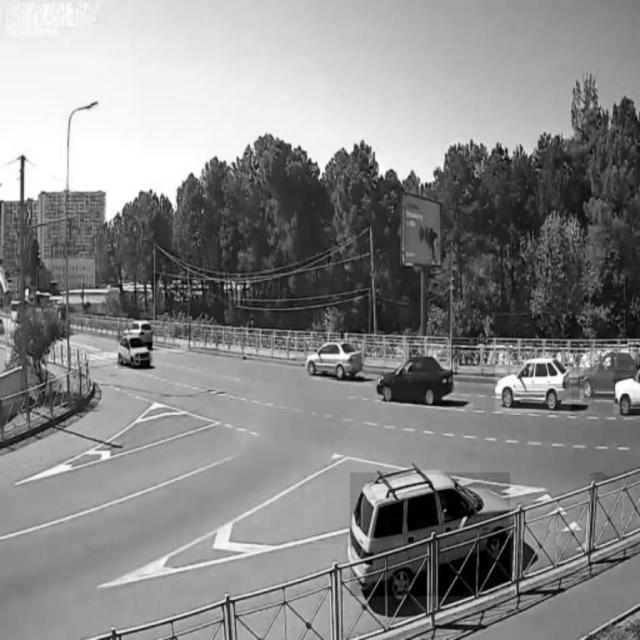vehicle: (350, 472, 510, 596), (375, 351, 457, 407), (496, 355, 572, 413), (580, 352, 636, 399), (305, 339, 363, 379), (118, 333, 153, 369), (614, 370, 640, 414)
